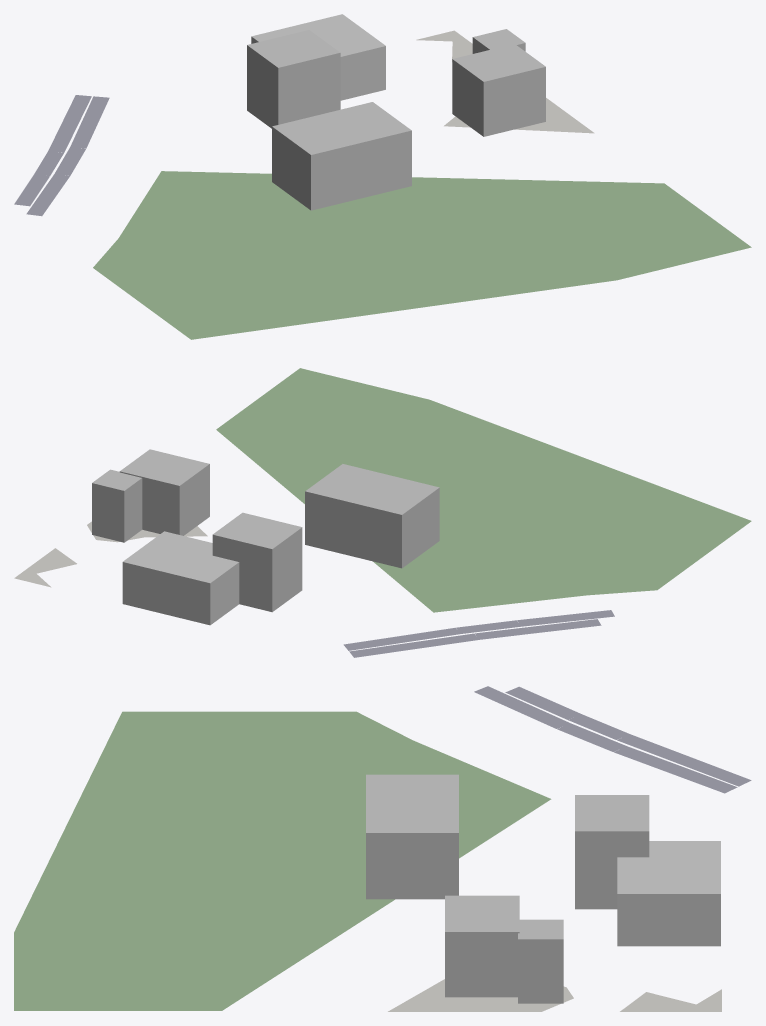
The model's file is 111_117_mid.glb.
3 renders of one model, top to bottom at view 1: azimuth 30°, elevation 25°; view 2: azimuth 150°, elevation 25°; view 3: azimuth 270°, elevation 25°, orthographic. The views are drawn at different scales.
Size of the model in its own units: 511 by 61.21 by 521.
